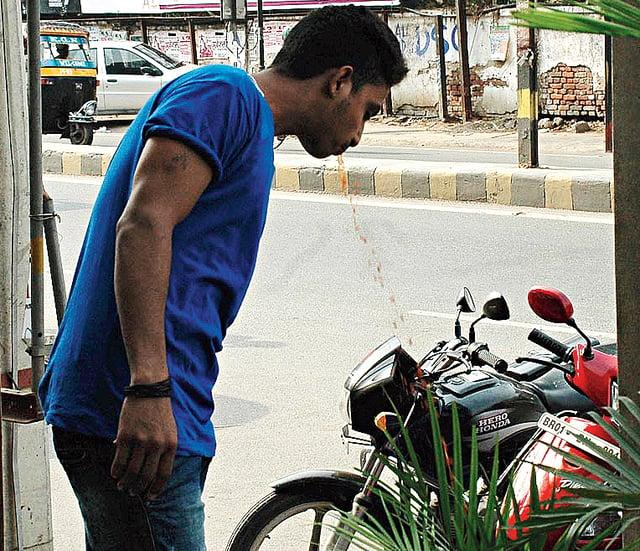Spitting: (263, 3, 463, 214)
